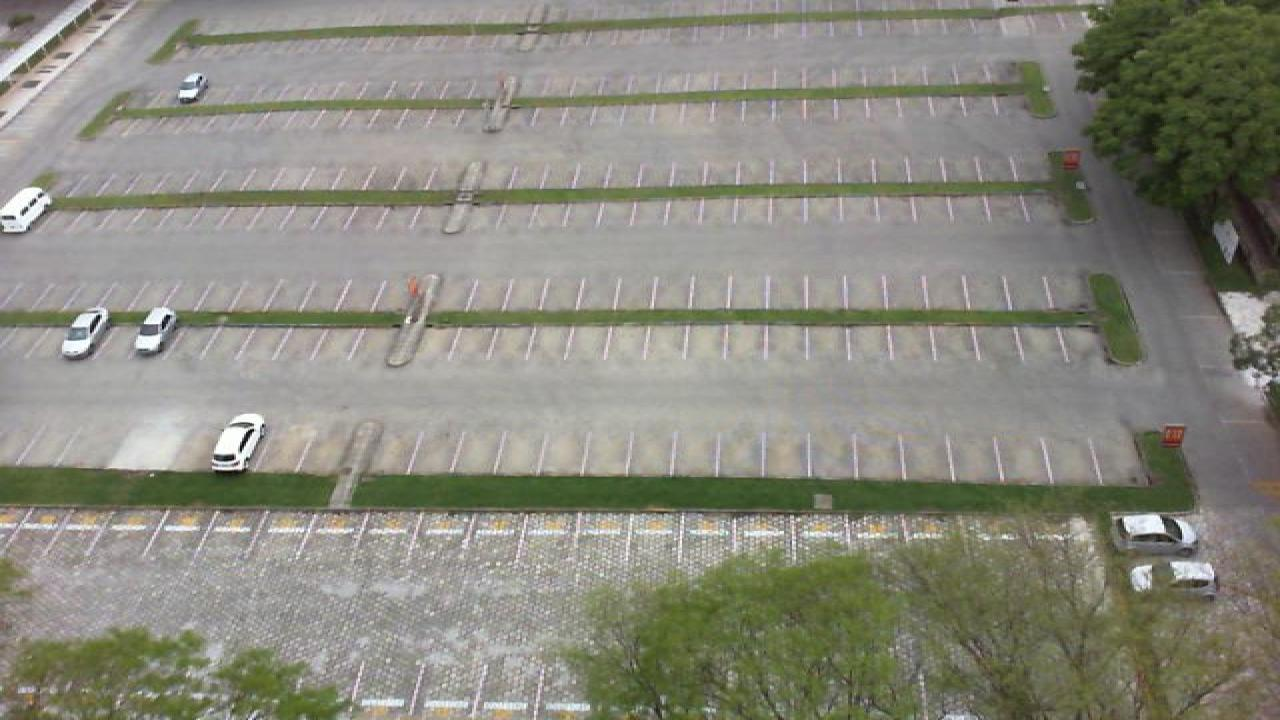Car: (210, 413, 268, 471), (1116, 513, 1200, 553), (1130, 560, 1220, 596), (60, 307, 110, 360), (0, 186, 52, 232), (132, 306, 178, 356), (176, 72, 210, 105)
